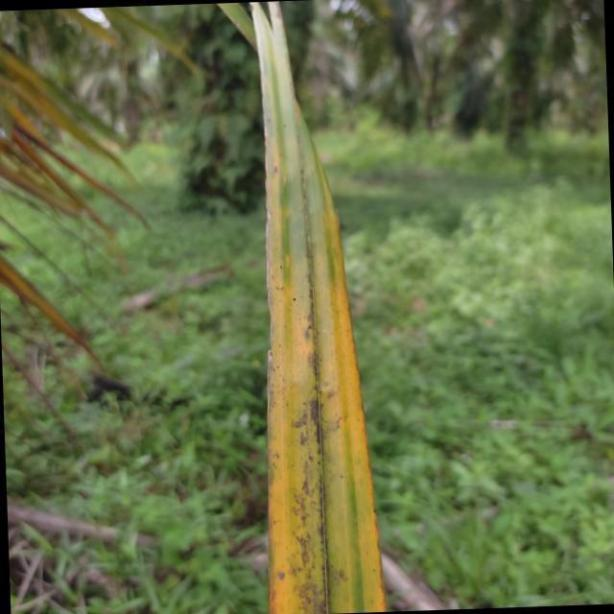Megnesium: (248, 0, 384, 614)
